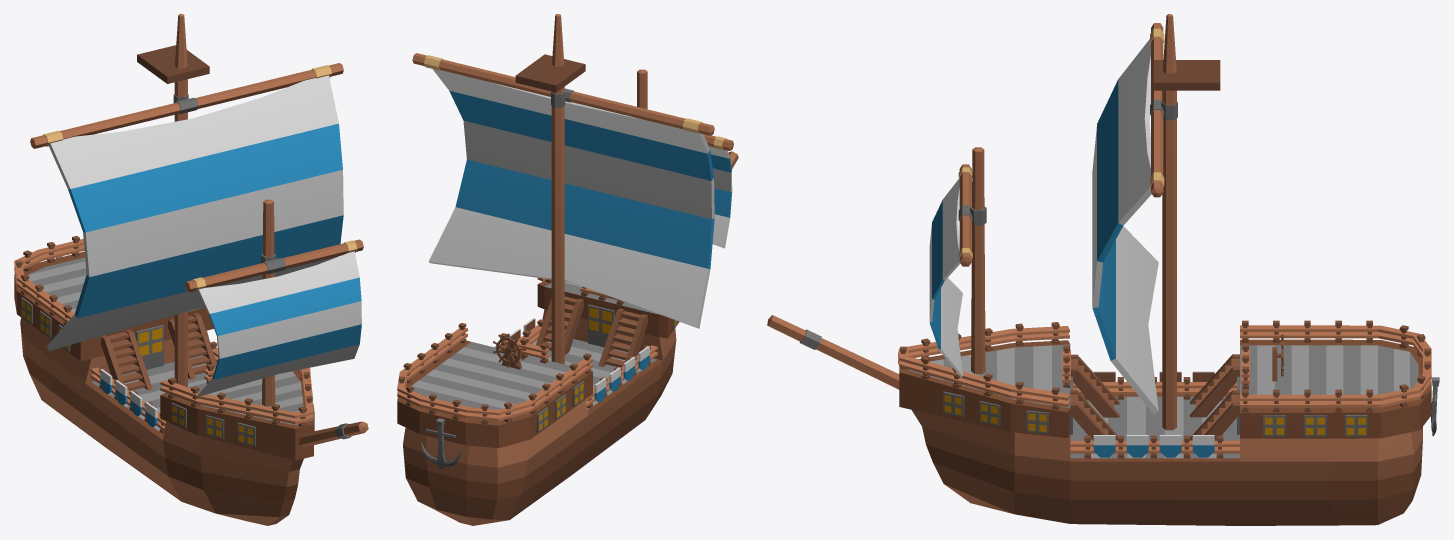
Rendered from sloop.glb.
3 renders of one model, left to right at view 1: azimuth 30°, elevation 25°; view 2: azimuth 150°, elevation 25°; view 3: azimuth 270°, elevation 25°, orthographic. The views are drawn at different scales.
Visible parts, largest first — view 1: ship medium 5; view 2: ship medium 5; view 3: ship medium 5.
Boxes of the visible parts, x1,y1,x2,y2 form: ship medium 5: (14,14,368,525); ship medium 5: (397,14,738,525); ship medium 5: (767,14,1439,525).
Size of the model in its own units: 18.43 by 26.03 by 31.48.
Materials: 1 (1 with a texture image).
